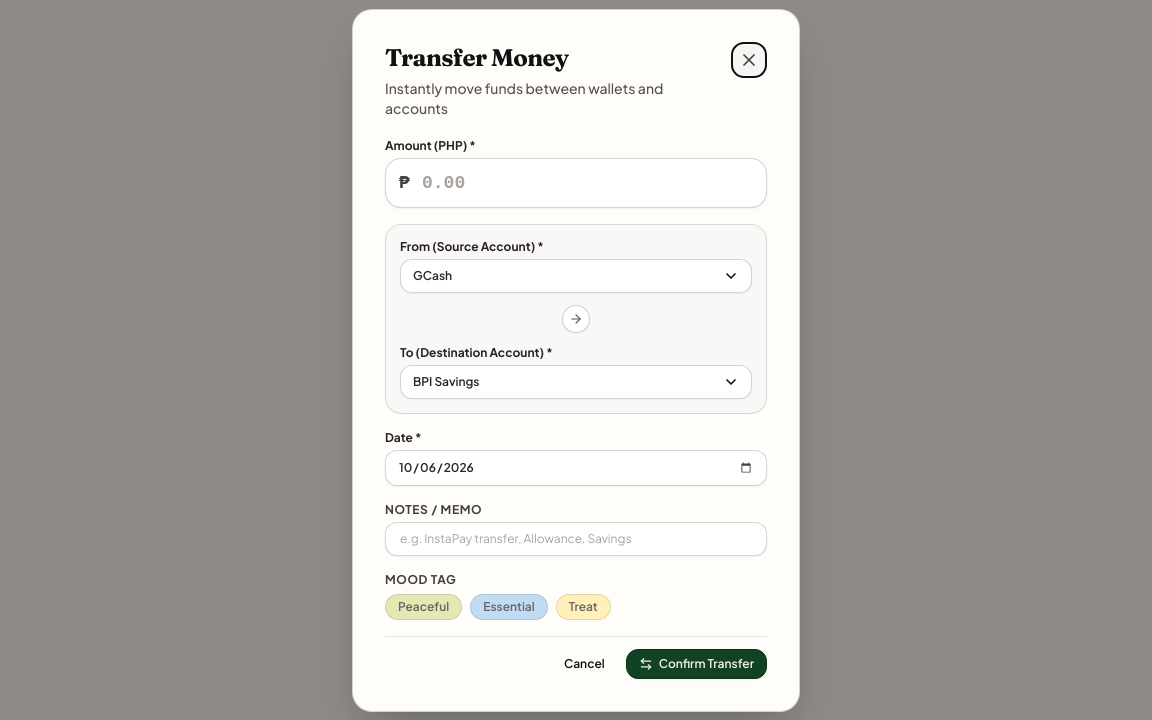
Scenario: TransferModal Component (TDD) › Validation & Error Rendering › requires amount > 0 and prevents submission with error message
// Amount is empty
Click the button with test id "transfer-submit-btn": click(696, 664) [626, 648, 767, 678]
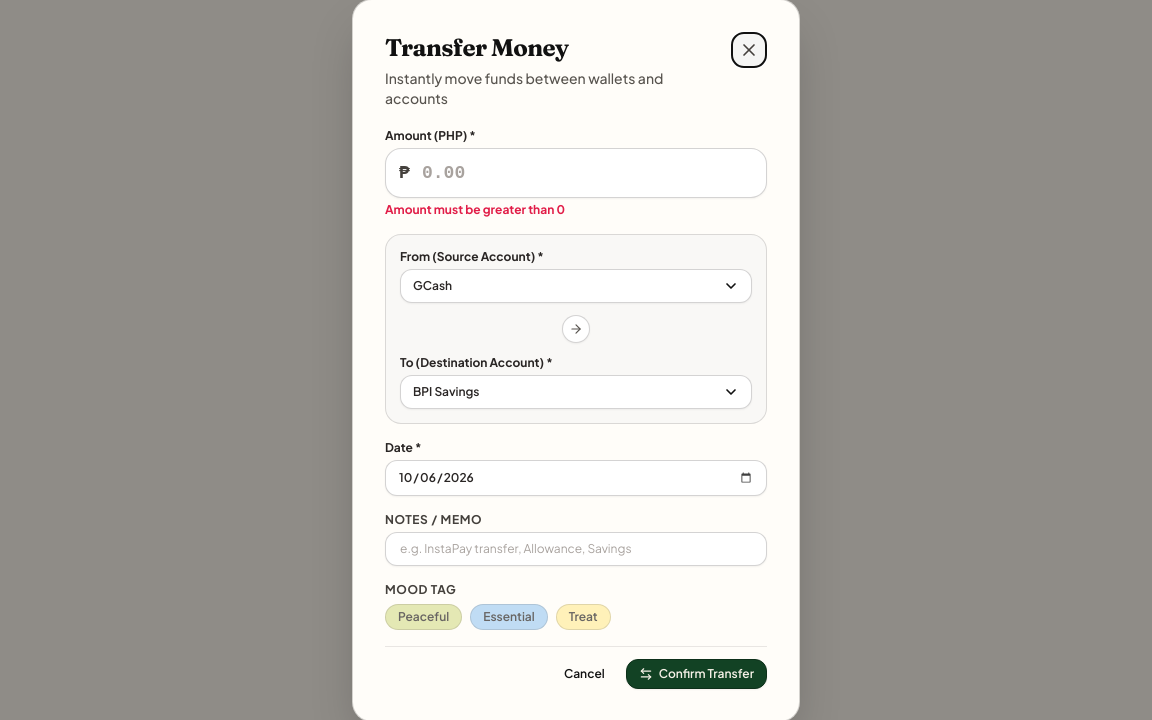
Expected: the text with test id "transfer-amount-error" shows "greater than 0", [385, 202, 565, 216]
